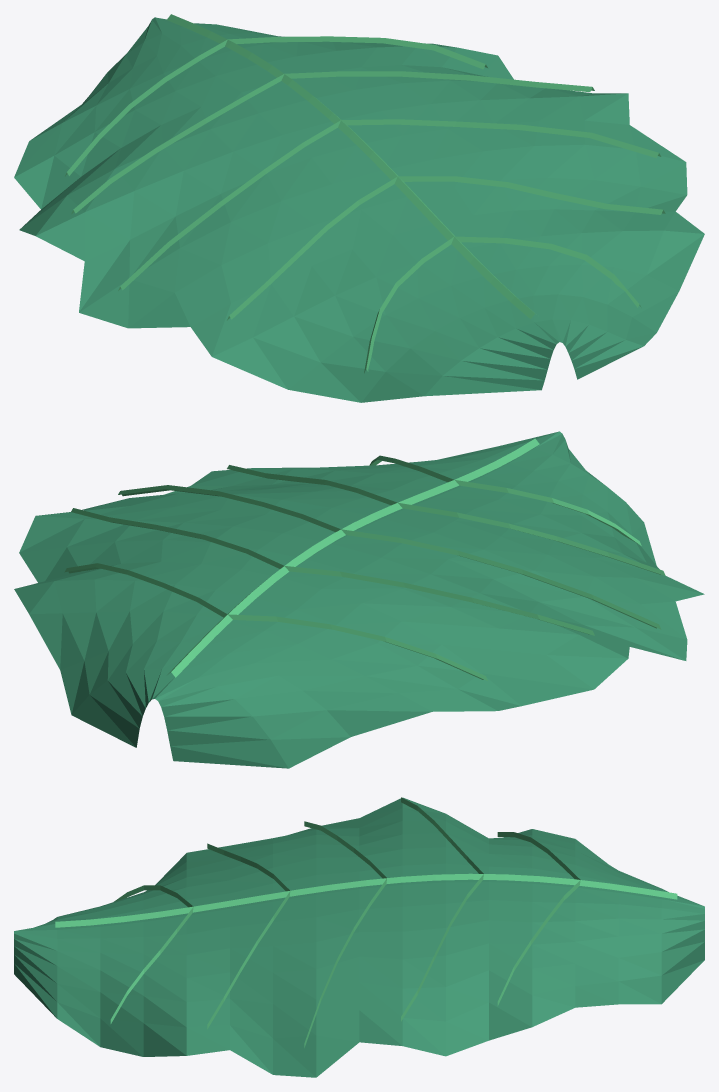
The model's file is lettuce.obj.
3 views of the same model, one above another, from view 1: azimuth 30°, elevation 25°; view 2: azimuth 150°, elevation 25°; view 3: azimuth 270°, elevation 25° (orthographic). The views are drawn at different scales.
Visible parts, largest first — view 1: lettuce; view 2: lettuce; view 3: lettuce.
Part boxes in pixels (x1,y1,x2,y2): lettuce: (14, 14, 704, 402); lettuce: (14, 431, 704, 768); lettuce: (14, 797, 704, 1077).
Size of the model in its own units: 0.3987 by 0.0821 by 0.46.
1 material, 1 textured.
